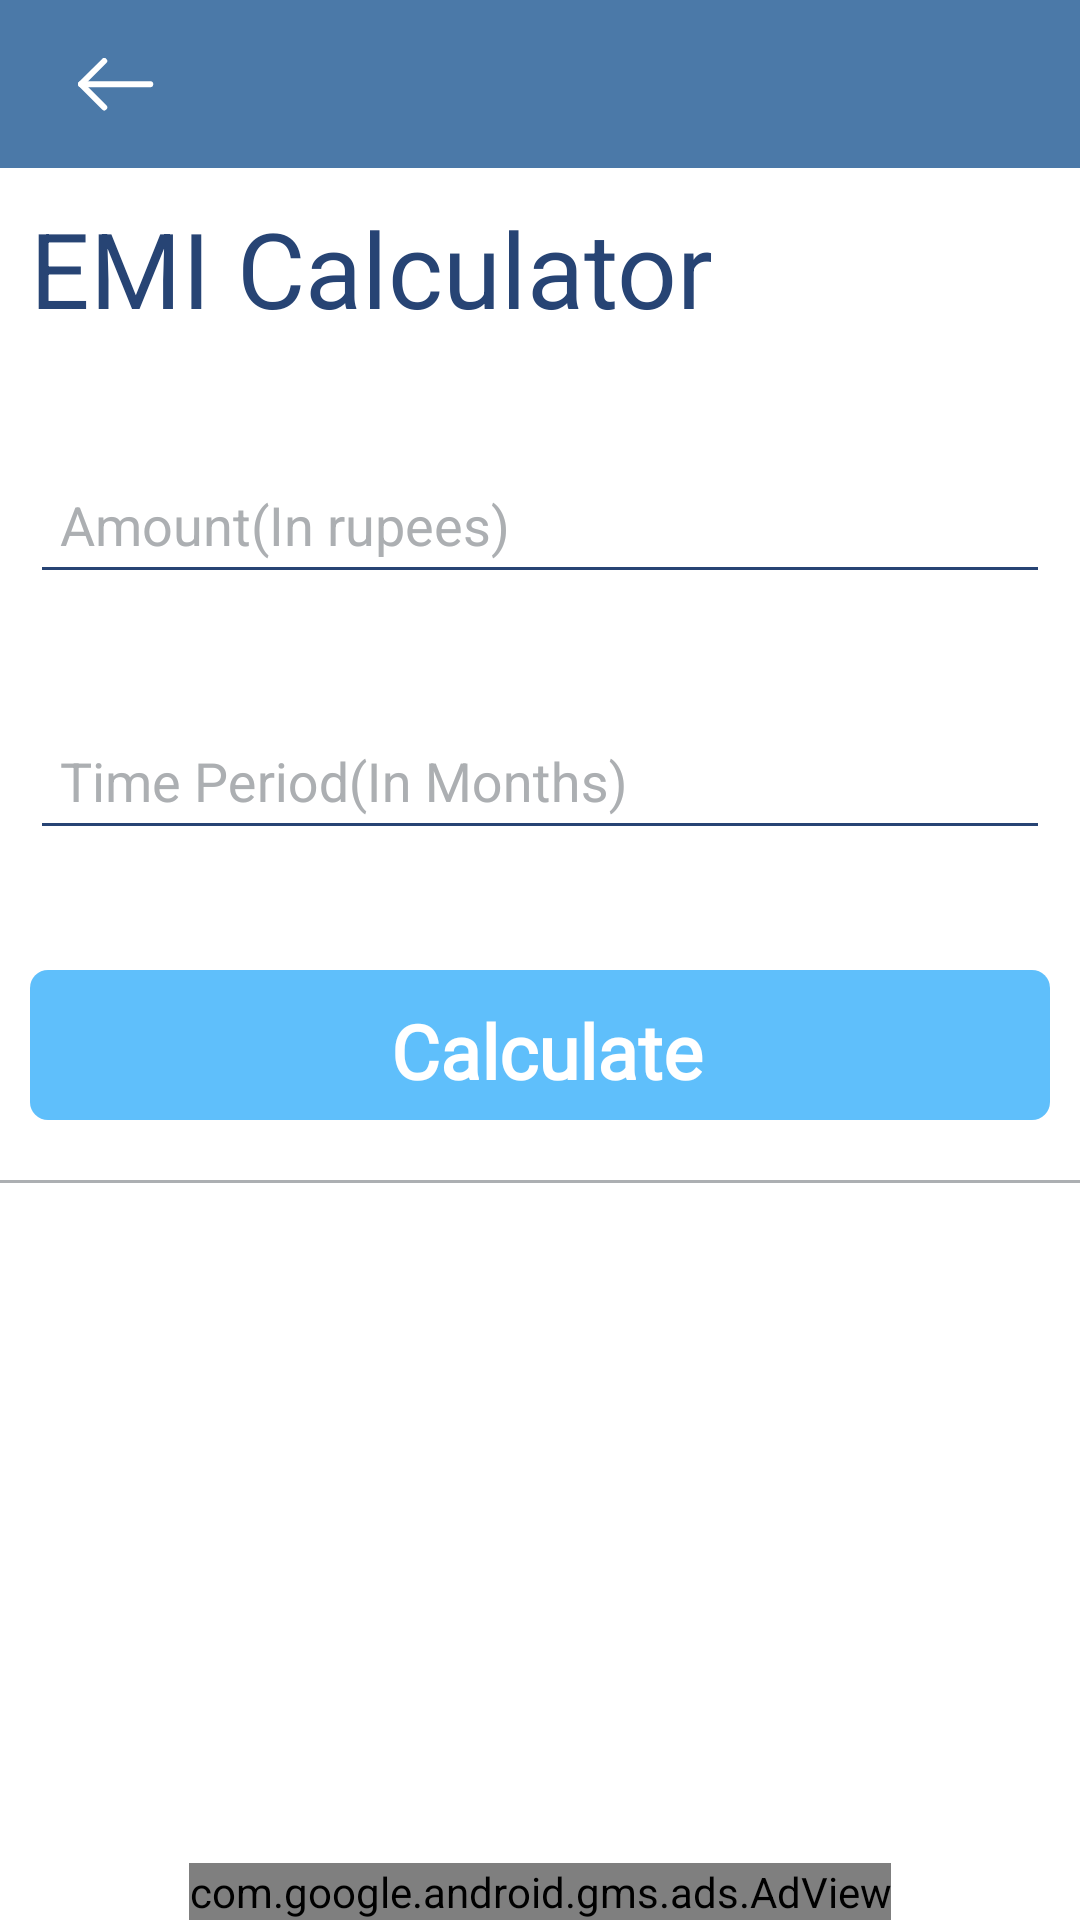

Icons on this 1080×1920 Android screen, each with the point to tap as (x=x, y=y):
back: (x=116, y=84)
